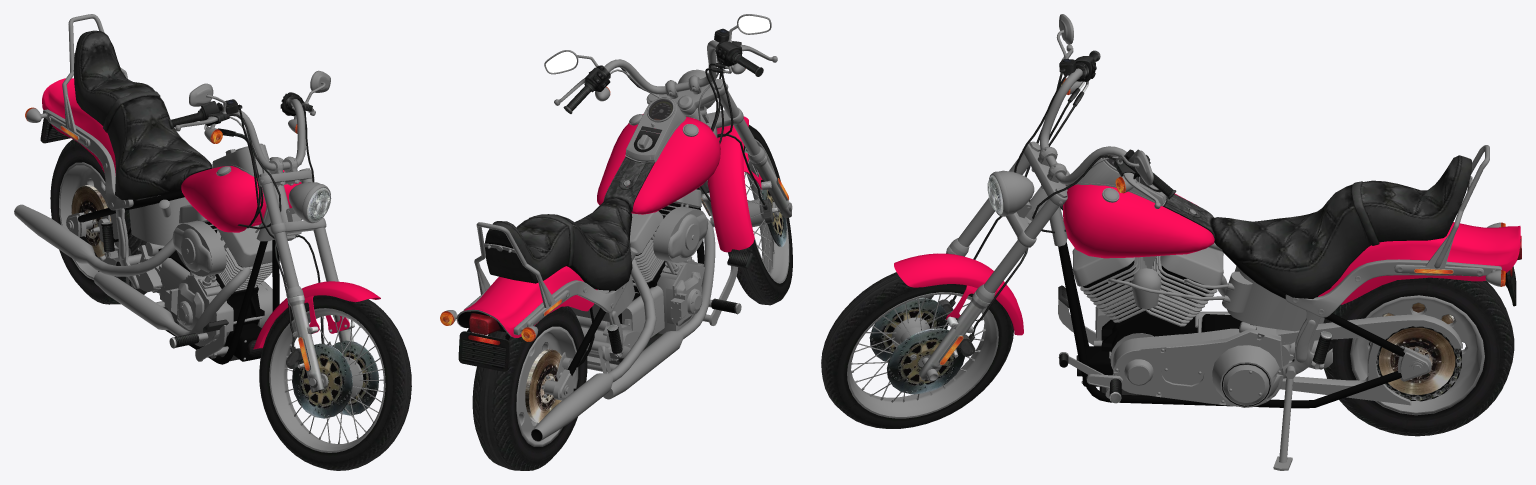
3 views of the same model, side by side, from view 1: azimuth 30°, elevation 25°; view 2: azimuth 150°, elevation 25°; view 3: azimuth 270°, elevation 25° (orthographic). The views are drawn at different scales.
Parts seen in each view (by area): view 1: Object_9, Object_12, Object_17, Object_6, Object_7, Object_3, Object_14, Object_15, Object_16, Object_5, Object_10, Object_11; view 2: Object_9, Object_6, Object_17, Object_12, Object_14, Object_15, Object_7, Object_16, Object_2, Object_3, Object_11, Object_4 (+3 smaller); view 3: Object_9, Object_17, Object_6, Object_12, Object_7, Object_3, Object_15, Object_14, Object_5, Object_4, Object_16.
Part boxes in pixels (x1=…): Object_9: x1=14, y1=14, x2=385, y2=452; Object_12: x1=73, y1=30, x2=212, y2=199; Object_17: x1=50, y1=139, x2=411, y2=470; Object_6: x1=42, y1=78, x2=380, y2=349; Object_7: x1=71, y1=185, x2=379, y2=418; Object_3: x1=47, y1=123, x2=279, y2=364; Object_14: x1=40, y1=92, x2=332, y2=368; Object_15: x1=102, y1=102, x2=314, y2=347; Object_16: x1=287, y1=295, x2=354, y2=392; Object_5: x1=113, y1=199, x2=264, y2=326; Object_10: x1=307, y1=187, x2=330, y2=221; Object_11: x1=25, y1=107, x2=309, y2=370; Object_9: x1=445, y1=14, x2=792, y2=446; Object_6: x1=464, y1=114, x2=762, y2=337; Object_17: x1=472, y1=125, x2=792, y2=470; Object_12: x1=484, y1=198, x2=632, y2=290; Object_14: x1=458, y1=28, x2=777, y2=371; Object_15: x1=563, y1=41, x2=763, y2=353; Object_7: x1=525, y1=189, x2=786, y2=422; Object_16: x1=656, y1=109, x2=791, y2=219; Object_2: x1=545, y1=15, x2=769, y2=72; Object_3: x1=467, y1=187, x2=704, y2=391; Object_11: x1=440, y1=68, x2=788, y2=345; Object_4: x1=458, y1=203, x2=697, y2=441; Object_9: x1=847, y1=14, x2=1520, y2=470; Object_17: x1=821, y1=272, x2=1514, y2=436; Object_6: x1=894, y1=184, x2=1520, y2=335; Object_12: x1=1211, y1=155, x2=1471, y2=298; Object_7: x1=869, y1=297, x2=1455, y2=394; Object_3: x1=1058, y1=242, x2=1511, y2=408; Object_15: x1=1014, y1=50, x2=1461, y2=401; Object_14: x1=919, y1=56, x2=1516, y2=403; Object_5: x1=1101, y1=296, x2=1317, y2=352; Object_4: x1=1083, y1=260, x2=1270, y2=406; Object_16: x1=918, y1=162, x2=1113, y2=380.
Size of what is drawn, in the model's own units: 0.9382 by 1.59 by 2.66.
14 materials, 7 textured.
